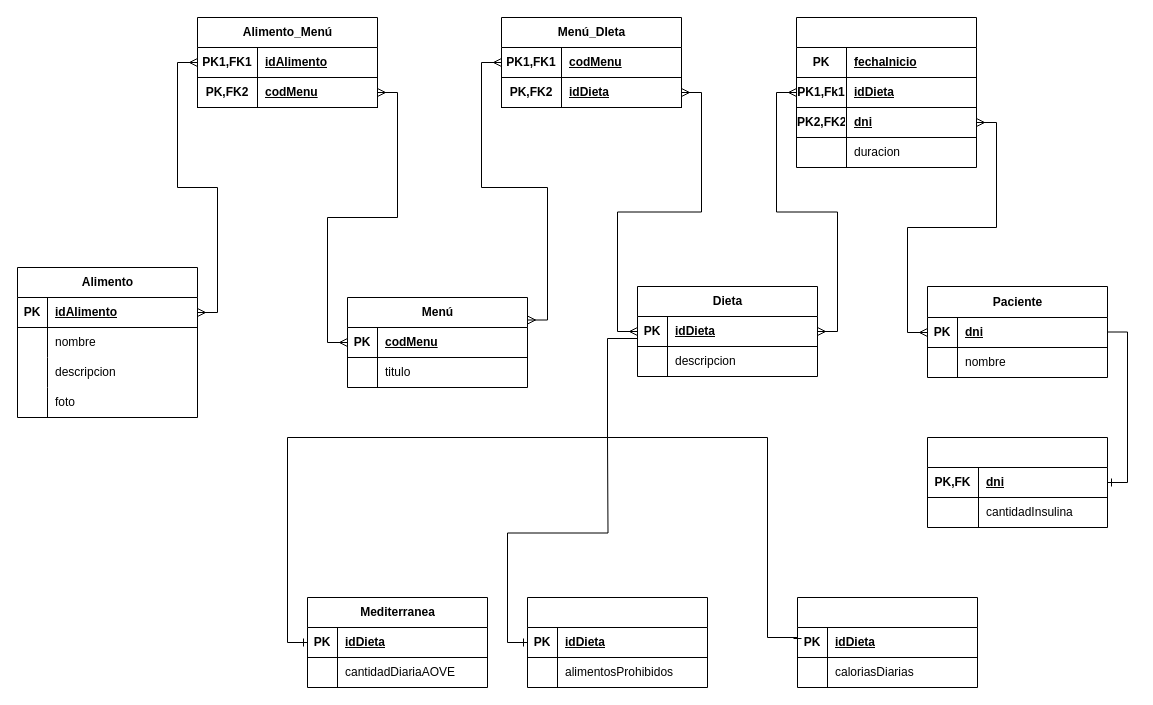
Some shapes in this 1153 by 705 pixel diagram are drawn without their labels. The box of each missing label's shape, as (x1, y1, x2, y2) in pixels:
Hipocalorica: (796, 596, 978, 688)
PacienteDiabetico: (926, 436, 1108, 528)
realiza: (796, 16, 976, 168)
Vegetariana: (526, 596, 708, 688)
